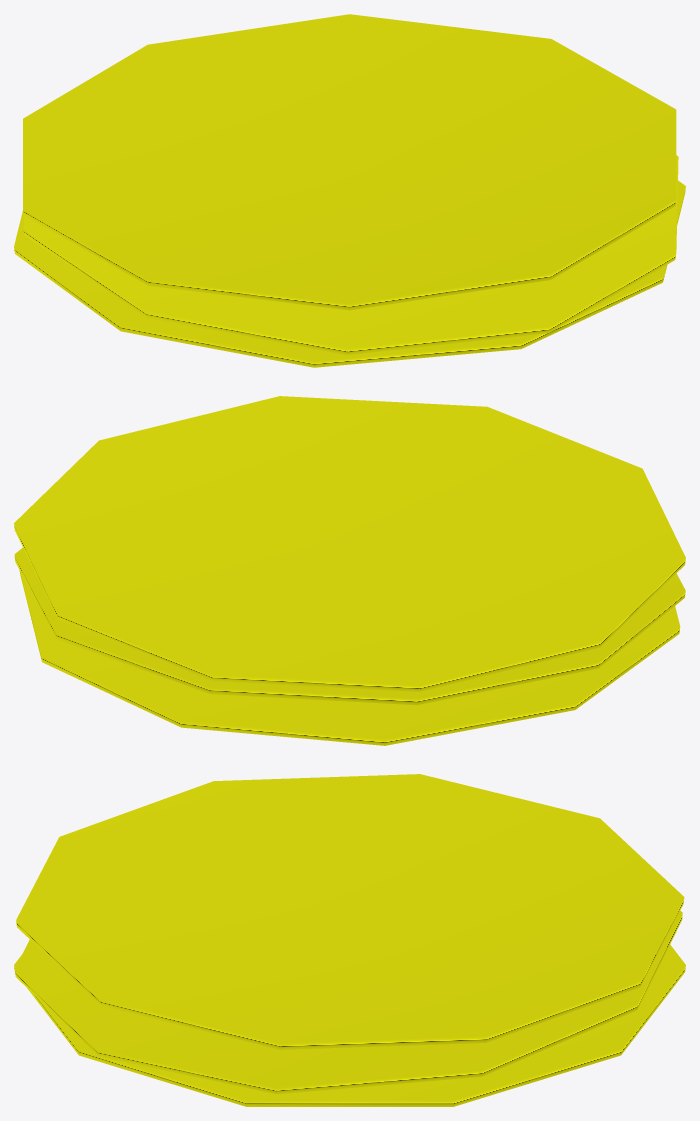
Rendered from Plate_Pile_01_Lod1.fbx.
3 renders of one model, top to bottom at view 1: azimuth 30°, elevation 25°; view 2: azimuth 150°, elevation 25°; view 3: azimuth 270°, elevation 25°, orthographic. The views are drawn at different scales.
Visible parts, largest first — view 1: Plate_Pile_01_Lod1; view 2: Plate_Pile_01_Lod1; view 3: Plate_Pile_01_Lod1.
Part boxes in pixels (left/top/right/bottom): Plate_Pile_01_Lod1: left=14, top=14, right=685, bottom=367; Plate_Pile_01_Lod1: left=14, top=396, right=685, bottom=745; Plate_Pile_01_Lod1: left=14, top=774, right=685, bottom=1106.
Size of the model in its own units: 28.3 by 5.06 by 28.93.
